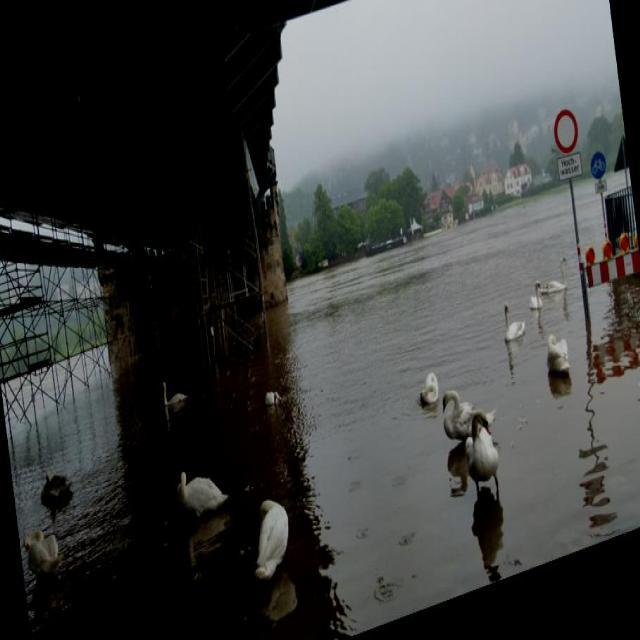flood: (0, 122, 639, 638)
